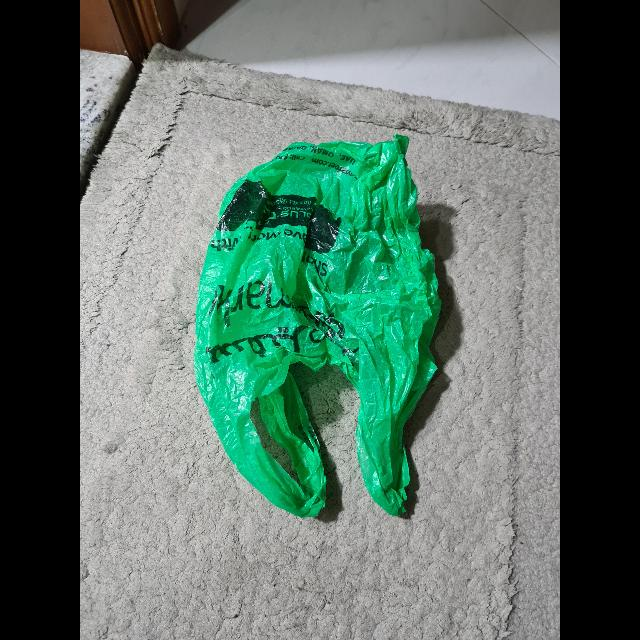plastic_bag: (190, 134, 428, 518)
